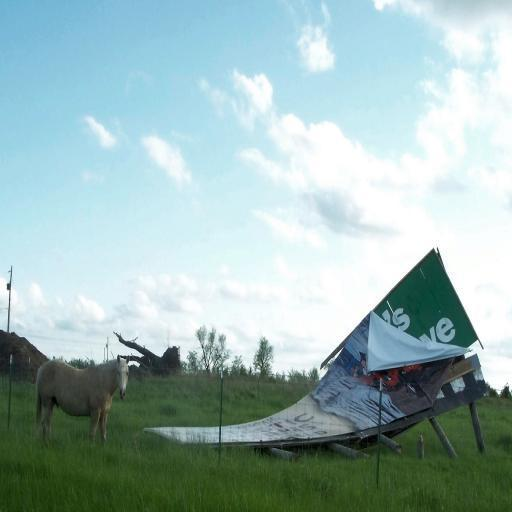horse: (36, 354, 129, 442)
